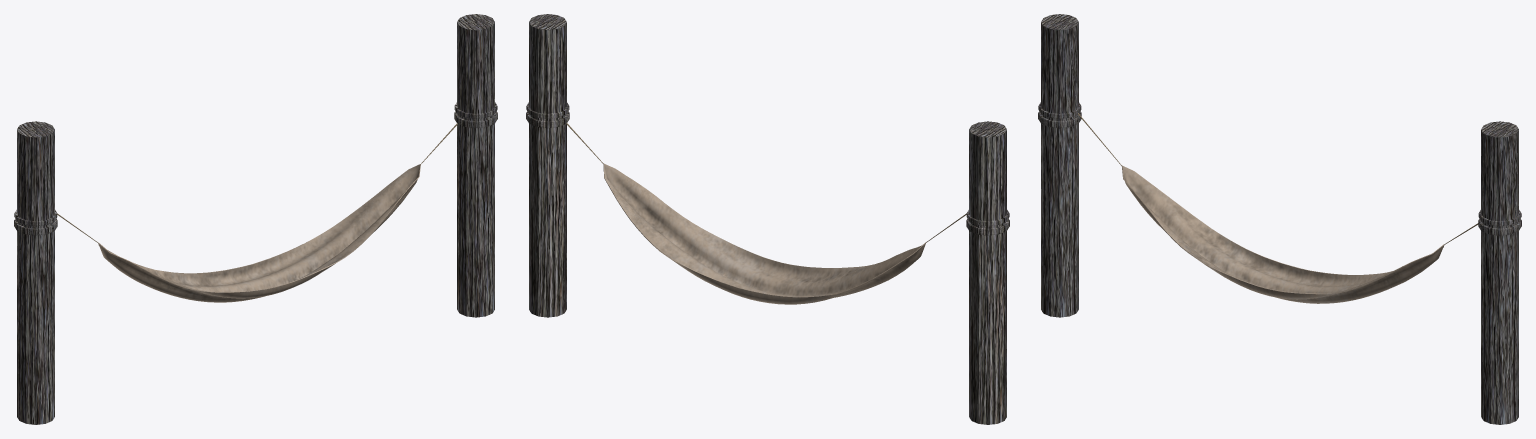
The model's file is rede.fbx.
3 views of the same model, side by side, from view 1: azimuth 30°, elevation 25°; view 2: azimuth 150°, elevation 25°; view 3: azimuth 330°, elevation 25° (orthographic).
Visible parts, largest first — view 1: Cylinder, polySurface3; view 2: Cylinder, polySurface3; view 3: Cylinder, polySurface3.
Part boxes in pixels (bbox=[...]): Cylinder: bbox=[14, 14, 497, 424]; polySurface3: bbox=[57, 123, 457, 302]; Cylinder: bbox=[526, 14, 1009, 424]; polySurface3: bbox=[566, 123, 966, 304]; Cylinder: bbox=[1038, 14, 1521, 424]; polySurface3: bbox=[1078, 113, 1478, 303].
Bounding box in the file's own units: 455 × 261 × 54.72.
